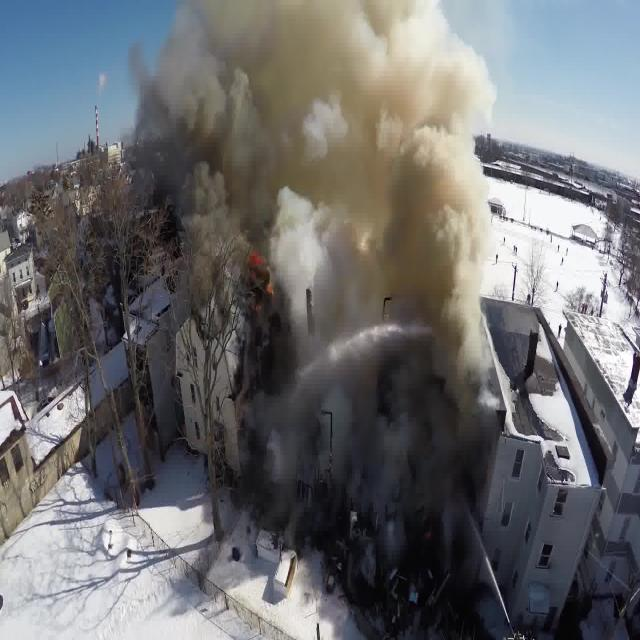Smoke: (121, 2, 482, 500)
